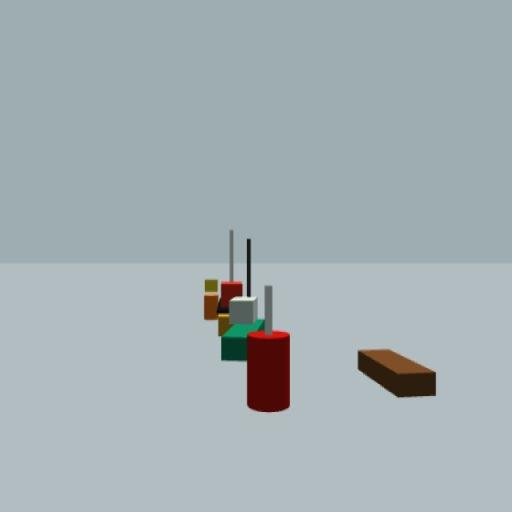debris_container: (357, 346, 439, 400)
floating_obstacle: (247, 284, 289, 414)
